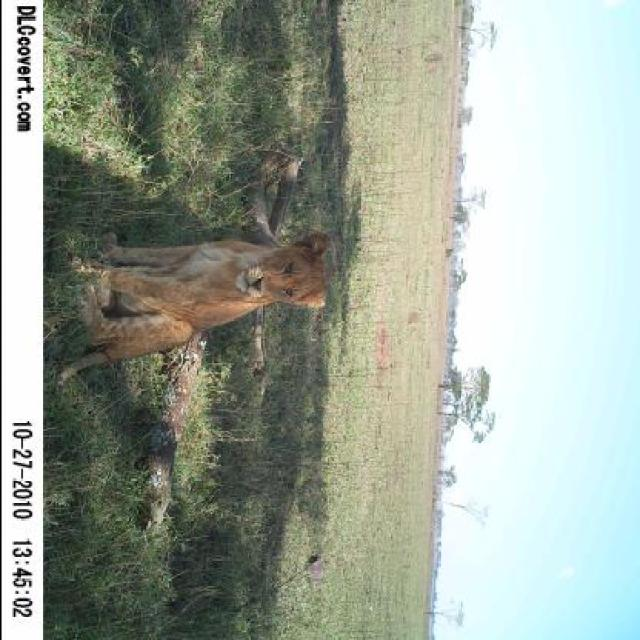Lion: (45, 234, 343, 397)
